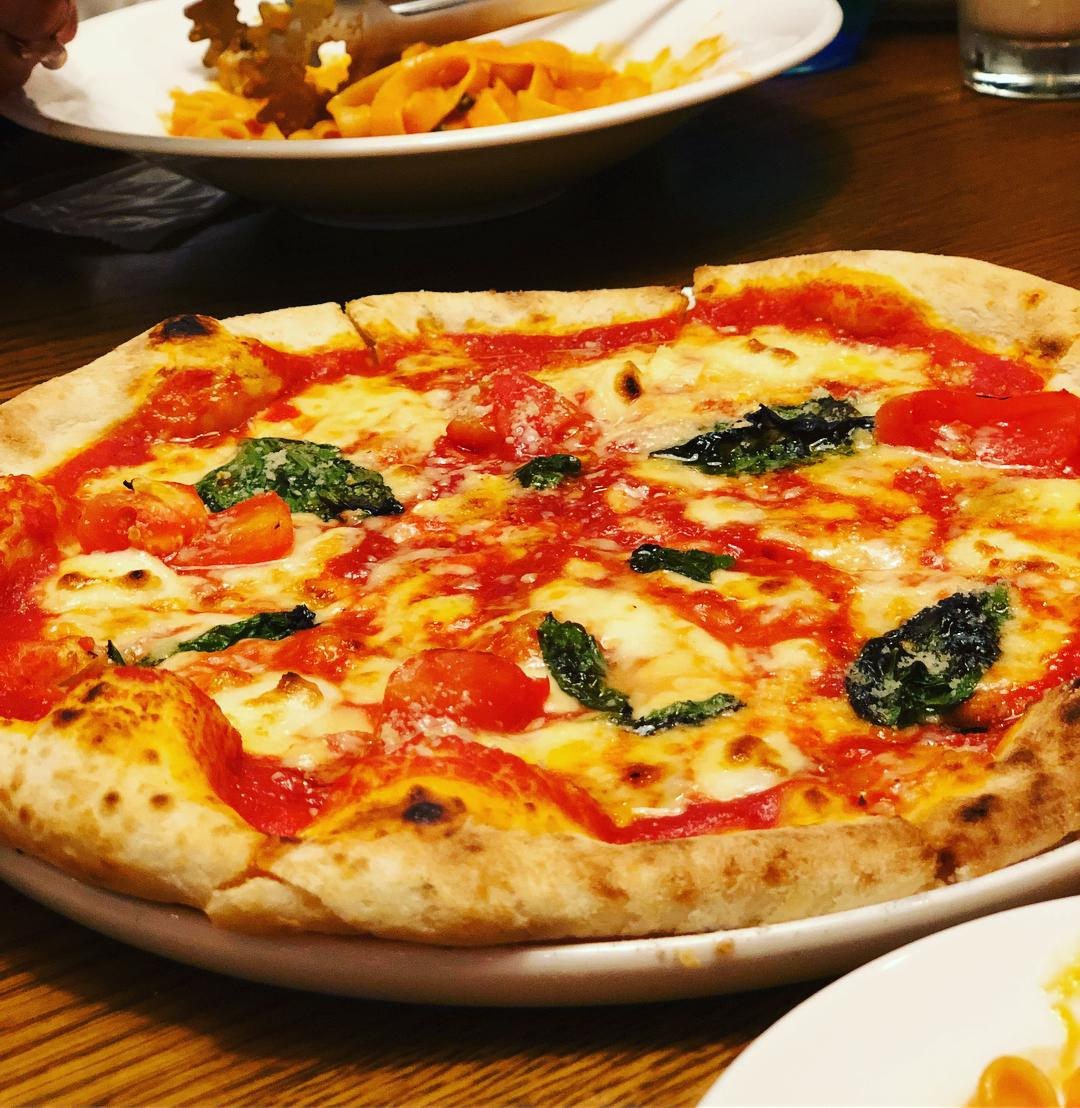Basil: (545, 617, 735, 728), (843, 592, 993, 728), (192, 437, 403, 522), (653, 395, 858, 475), (147, 602, 313, 667), (632, 538, 732, 582), (520, 457, 572, 493)
Cheese: (795, 471, 1080, 600), (627, 323, 917, 406), (249, 365, 452, 450), (569, 597, 738, 691), (211, 671, 370, 766)
Pepperoni: (448, 372, 603, 454)
Pizza: (0, 250, 1080, 948)
Tomatoes: (883, 389, 1080, 483), (74, 488, 299, 556), (390, 650, 545, 732)
